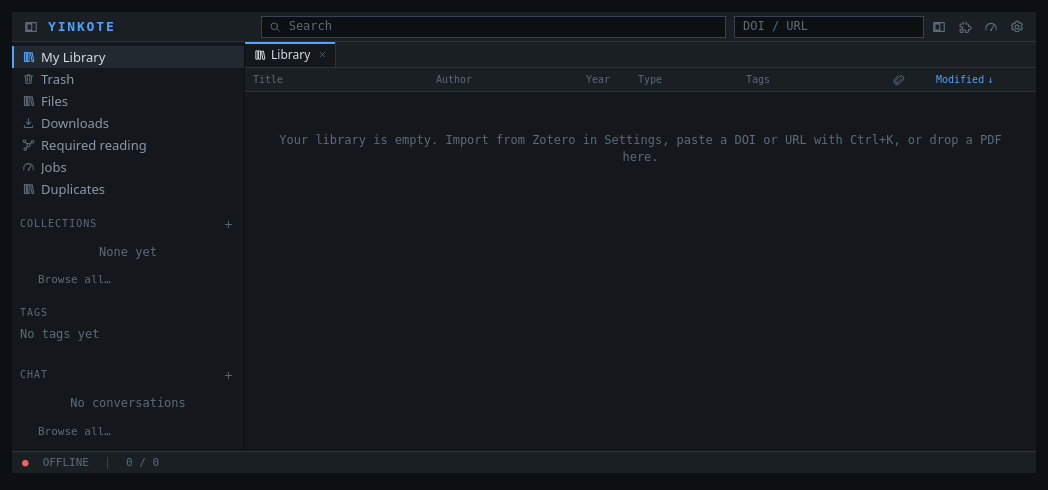
Scenario: the workbench › can hide and reopen the left sidebar without losing its width
Click the button named "Hide library sidebar". click: (31, 26)
box: [20,16,42,38]
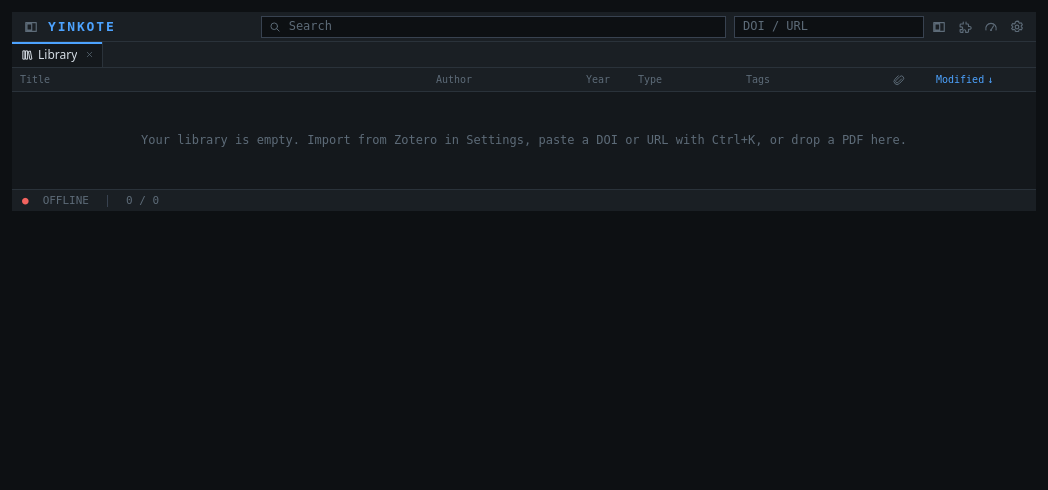
Expected: the element with class "workspace-main" is shown, [12,42,1036,189]
Now the element with id "library-sidebar" is gone
Click the button named "Show library sidebar". click: (31, 26)
box: [20,16,42,38]
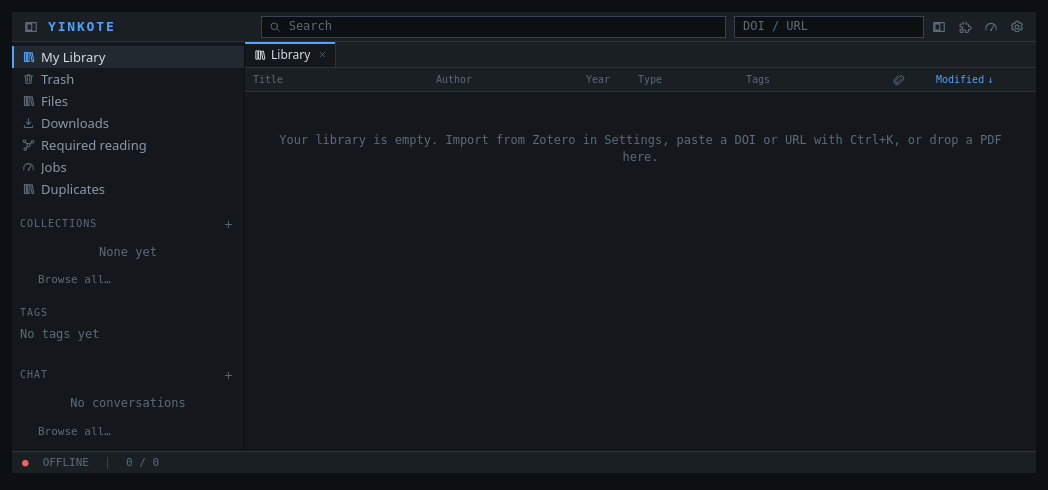
Now the element with id "library-sidebar" is shown, box [12,42,244,451]
